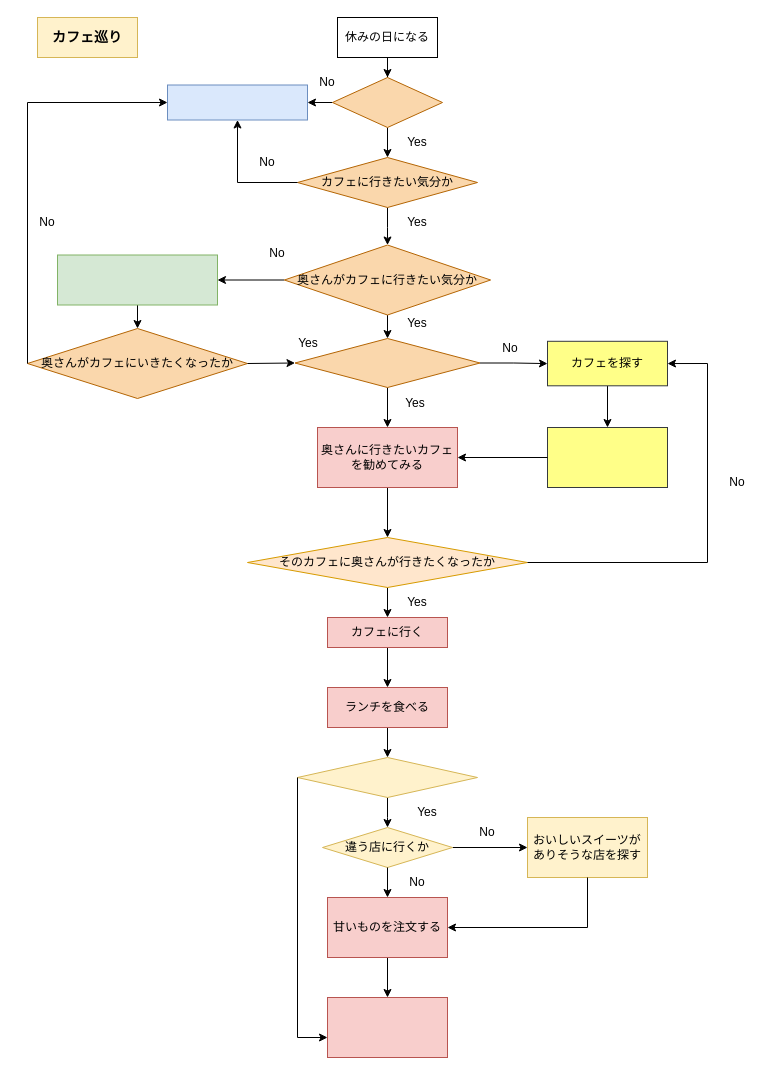
Some shapes in this 784 by 1075 pixel diagram are drawn without their labels. Each missing label, with the box of its shape:
おいしいケーキがあることを伝える: (56, 254, 218, 305)
別の楽しいことを考える: (166, 84, 308, 120)
晴れているか: (332, 76, 442, 128)
満足して帰る: (326, 996, 448, 1058)
甘いものを食べたいか: (296, 756, 478, 798)
良さそうなカフェが見つかる: (546, 426, 668, 488)
行きたいカフェがあるか: (294, 338, 480, 388)
